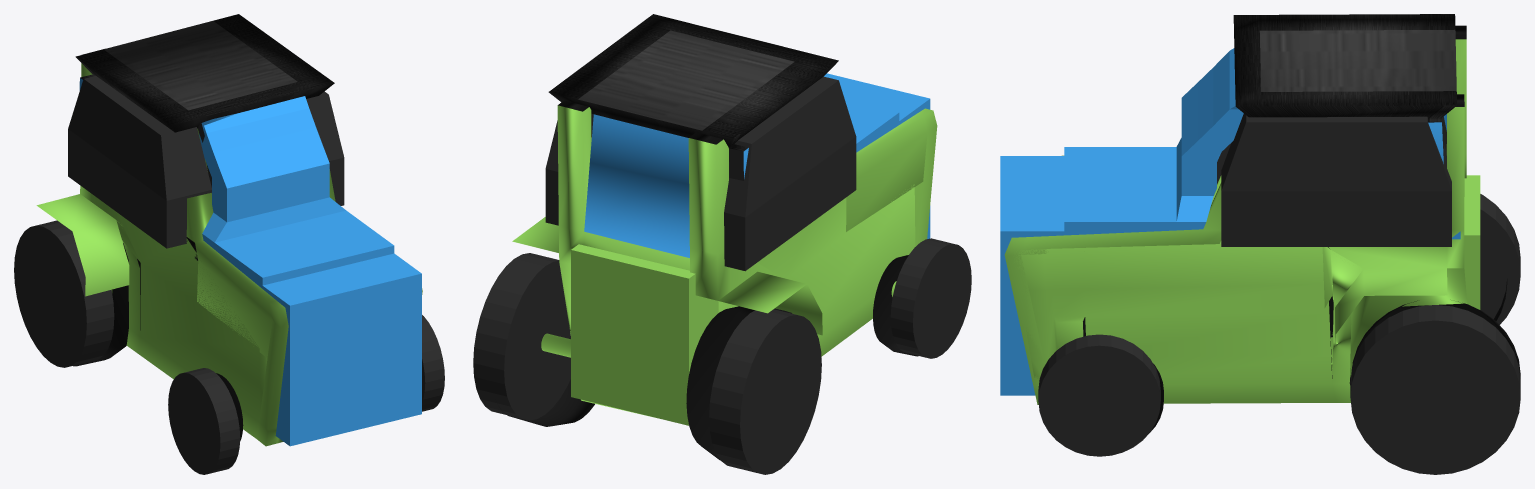
File: car.fbx
3 renders of one model, left to right at view 1: azimuth 30°, elevation 25°; view 2: azimuth 150°, elevation 25°; view 3: azimuth 270°, elevation 25°, orthographic. The views are drawn at different scales.
Visible parts, largest first — view 1: Cylinder; view 2: Cylinder; view 3: Cylinder.
Boxes of the visible parts, box(x1,y1,x2,y2) form: Cylinder: box(14, 14, 444, 474); Cylinder: box(473, 14, 971, 474); Cylinder: box(1000, 14, 1520, 474).
Bounding box in the file's own units: 1046 × 1251 × 1691.
